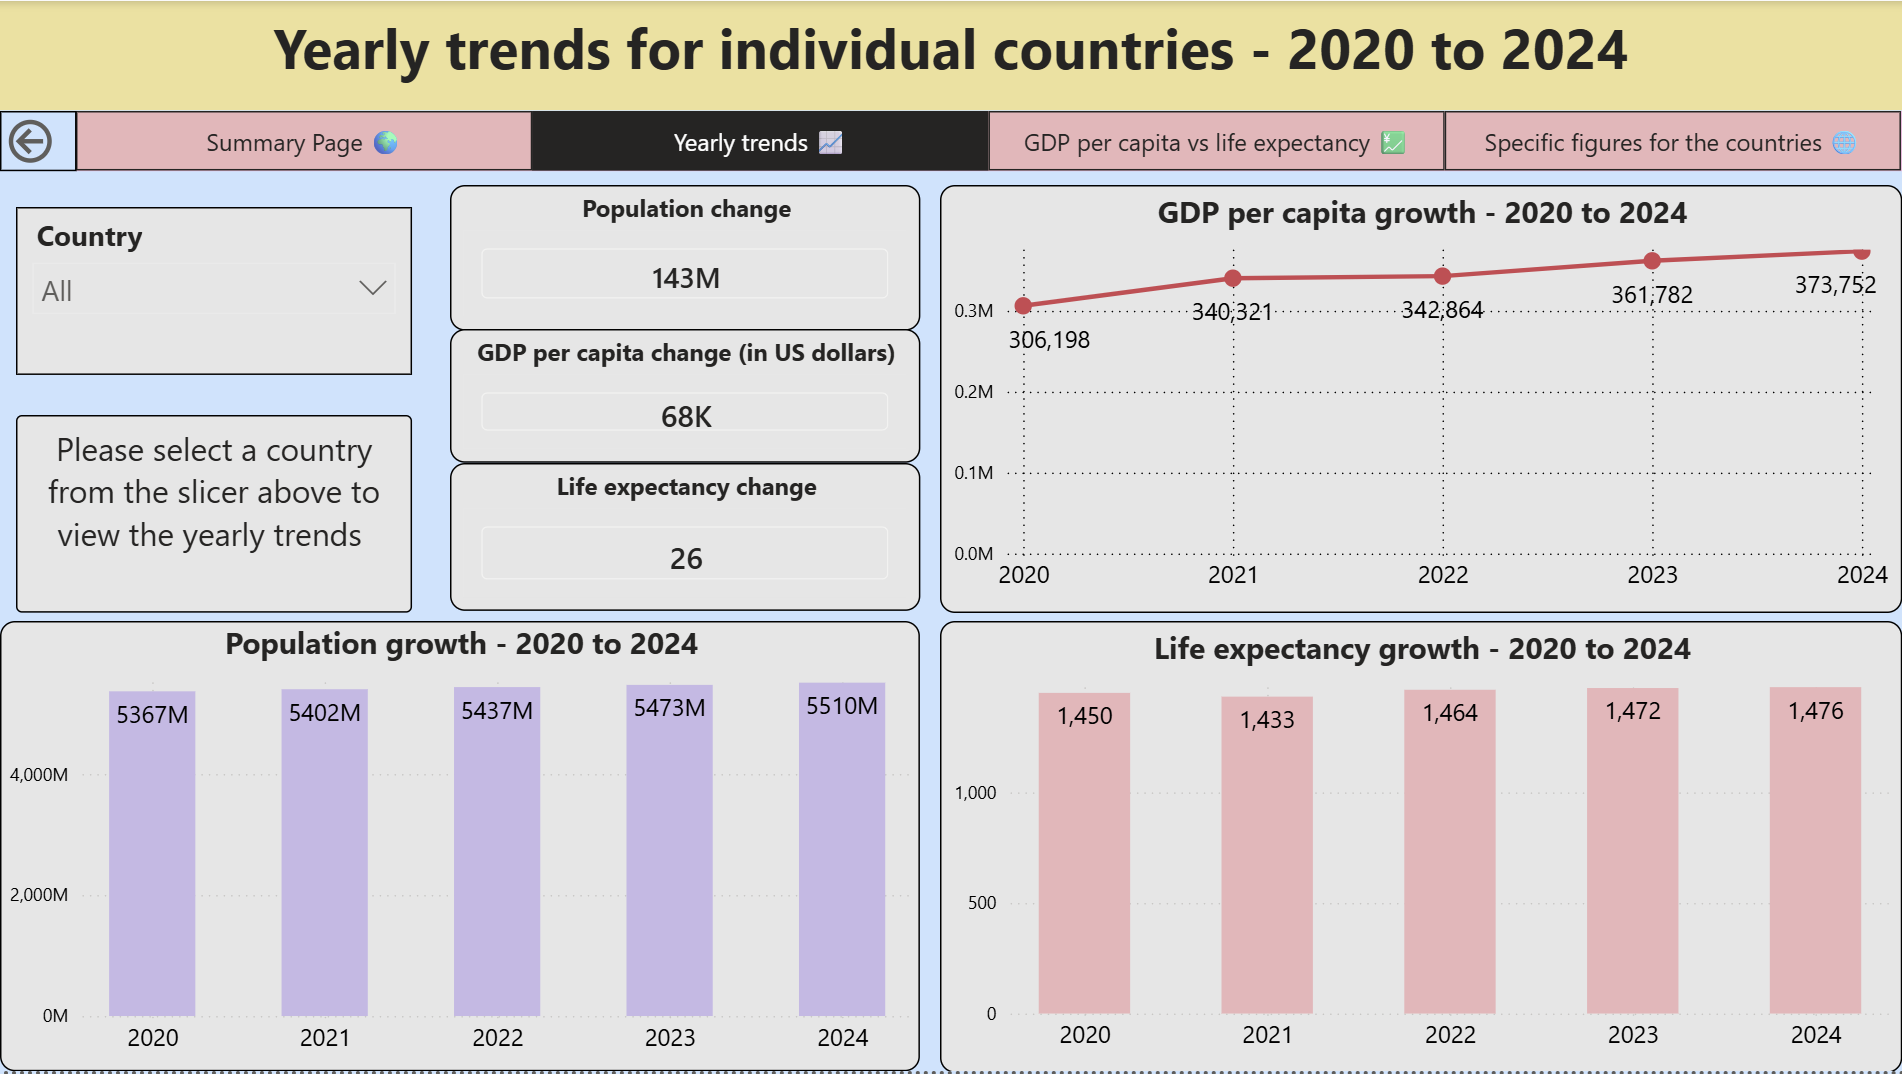

The page's visual inventory and layout, read from the dashboard file:
{"tool":"powerbi","page":{"name":"Yearly trends 📈","canvas":[1280,720],"ordinal":2},"visuals":[{"type":"lineChart","title":"GDP per capita growth - 2020 to 2024","fields":{"Category":["GDP per capita yearly volumes.Year"],"Y":["Sum(GDP per capita yearly volumes.GDP per capita)"]},"box":[632.5,123.8,647.3,288],"z":0},{"type":"slicer","fields":{"Values":["DIM_COUNTRY.Country Name"]},"box":[11,124.1,267,81.7],"z":1000},{"type":"clusteredColumnChart","title":"Population growth - 2020 to 2024","fields":{"Y":["Sum(Population yearly volumes.Population)"],"Category":["Population yearly volumes.Year"]},"box":[0,417.2,619.1,302.8],"z":2000},{"type":"clusteredColumnChart","title":"Life expectancy growth - 2020 to 2024","fields":{"Category":["Life expectancy yearly volumes.Year"],"Y":["Sum(Life expectancy yearly volumes.Life expectancy)"]},"box":[632.5,417.2,647.3,304.1],"z":3000},{"type":"cardVisual","title":"Life expectancy change","fields":{"Data":["Sum(MARTS_LIFE_EXPECTANCY_FINAL.Life expectancy change 2020 to 2024)"]},"box":[302.8,310.9,316.3,99.6],"z":4000},{"type":"cardVisual","title":"Population change","fields":{"Data":["Sum(MARTS_POPULATIONS_FINAL.Population change 2020 to 2024)"]},"box":[302.8,123.8,316.3,98.2],"z":5000},{"type":"cardVisual","title":"GDP per capita change (in US dollars)","fields":{"Data":["Sum(MARTS_GDP_PER_CAPITA_FINAL.GDP per capita change 2020 to 2024)"]},"box":[302.8,220.7,316.3,90.2],"z":6000},{"type":"textbox","box":[0,0,1280,73.6],"z":7000},{"type":"textbox","box":[10.8,278.6,266.5,133.2],"z":8000},{"type":"pageNavigator","box":[51.7,73.6,1231.4,40.7],"z":9000},{"type":"actionButton","box":[0,73.6,51.7,40.7],"z":10000}]}

Visuals, with their boxes in screenshot pixels (x1, y1, x2, y2), scaled from the page's 1280x720 canvas onto the 1902x1074 screenshot:
"GDP per capita growth - 2020 to 2024" lineChart: (left=940, top=185, right=1901, bottom=614)
slicer - DIM_COUNTRY.Country Name: (left=16, top=185, right=413, bottom=307)
"Population growth - 2020 to 2024" clusteredColumnChart: (left=0, top=622, right=920, bottom=1073)
"Life expectancy growth - 2020 to 2024" clusteredColumnChart: (left=940, top=622, right=1901, bottom=1073)
"Life expectancy change" cardVisual: (left=450, top=464, right=920, bottom=612)
"Population change" cardVisual: (left=450, top=185, right=920, bottom=331)
"GDP per capita change (in US dollars)" cardVisual: (left=450, top=329, right=920, bottom=464)
textbox: (left=0, top=0, right=1901, bottom=110)
textbox: (left=16, top=416, right=412, bottom=614)
pageNavigator: (left=77, top=110, right=1901, bottom=170)
actionButton: (left=0, top=110, right=77, bottom=170)
